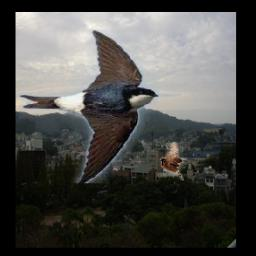Sparrow: (159, 142, 184, 180)
Swallow: (19, 30, 159, 184)
